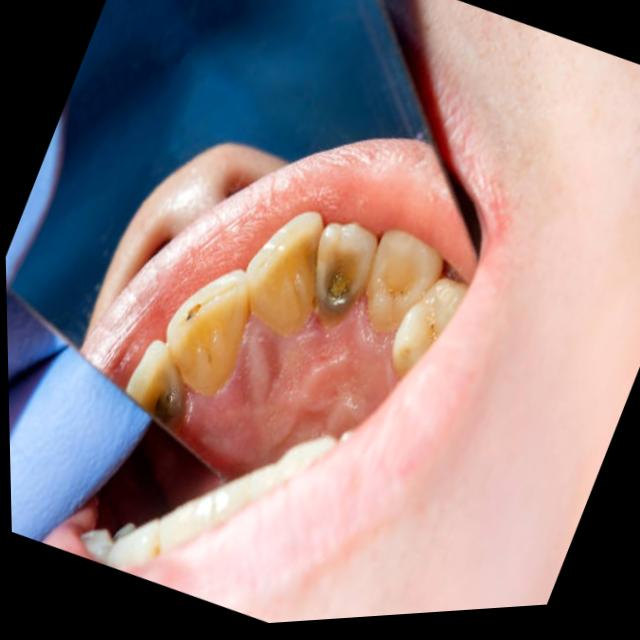tooth-discoloration: (167, 271, 250, 396), (246, 212, 324, 335), (317, 224, 378, 324)
